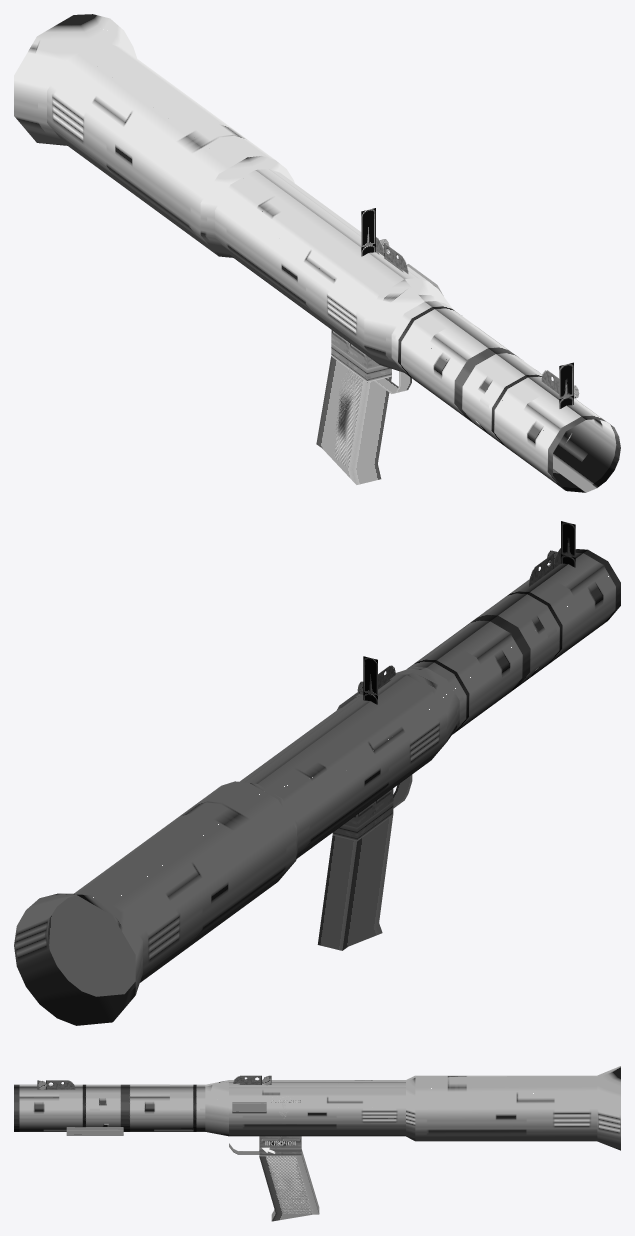
File: GrocketlaunchZ.obj
3 views of the same model, one above another, from view 1: azimuth 30°, elevation 25°; view 2: azimuth 150°, elevation 25°; view 3: azimuth 270°, elevation 25° (orthographic). The views are drawn at different scales.
Bounding box in the file's own units: 133 × 284 × 968.
24 materials, 24 textured.
